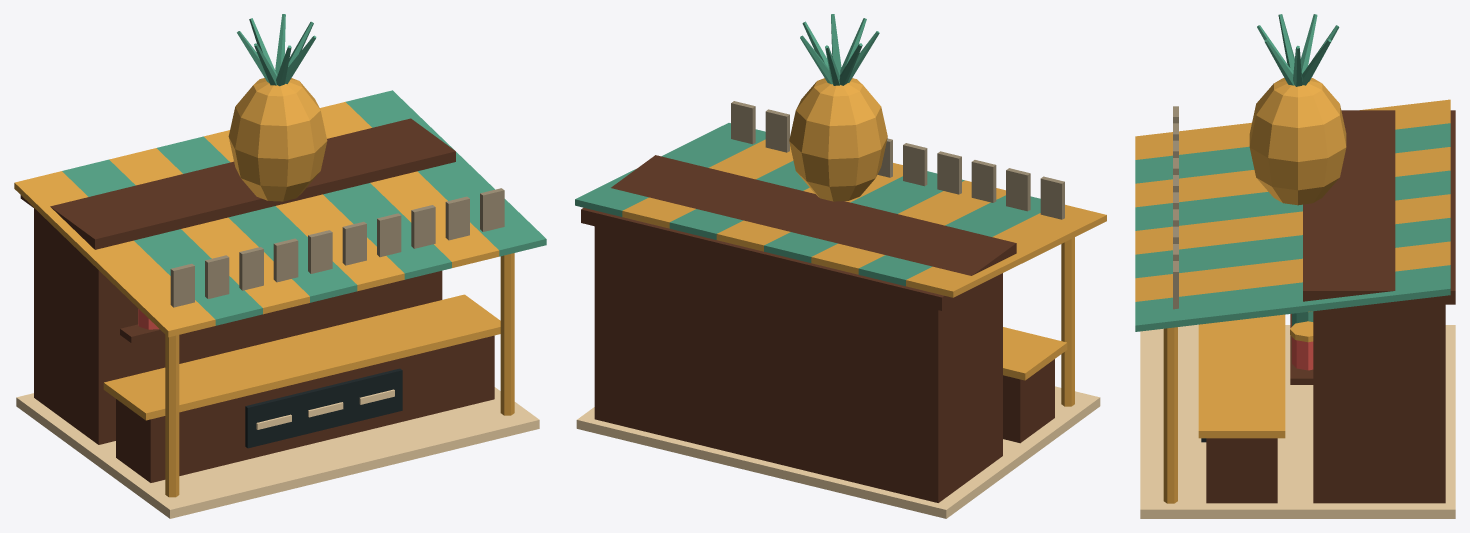
Rendered from ParkParkShopJuice.obj.
3 renders of one model, left to right at view 1: azimuth 30°, elevation 25°; view 2: azimuth 150°, elevation 25°; view 3: azimuth 270°, elevation 25°, orthographic. The views are drawn at different scales.
Parts seen in each view (by area): view 1: ParkParkShopJuice; view 2: ParkParkShopJuice; view 3: ParkParkShopJuice.
Part boxes in pixels (x1=…): ParkParkShopJuice: x1=14, y1=14, x2=546, y2=518; ParkParkShopJuice: x1=575, y1=14, x2=1106, y2=518; ParkParkShopJuice: x1=1135, y1=14, x2=1455, y2=518.
Size of the model in its own units: 8.8 by 8.62 by 6.3.
